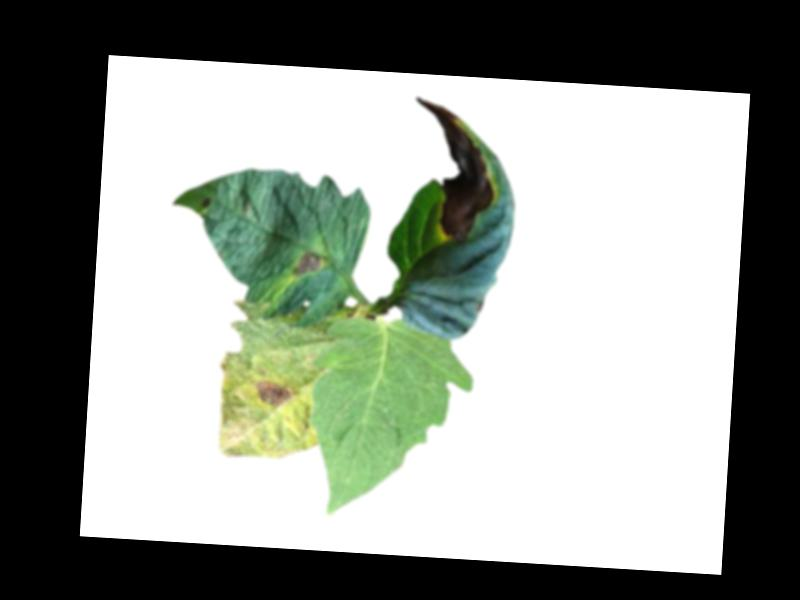Early_blight: (405, 96, 501, 248), (254, 377, 295, 408), (291, 250, 323, 280), (201, 197, 214, 211)
